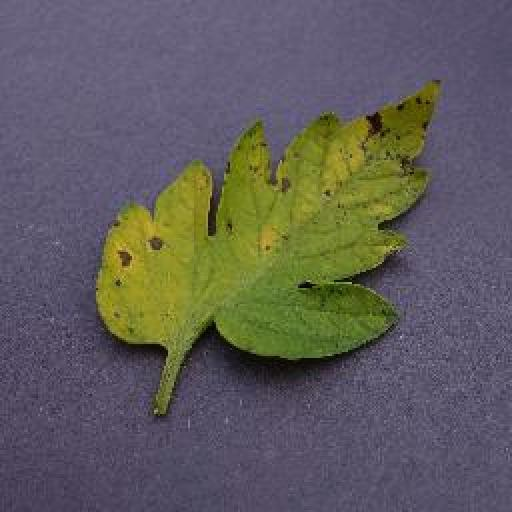disease_tomato: (96, 78, 442, 362)
